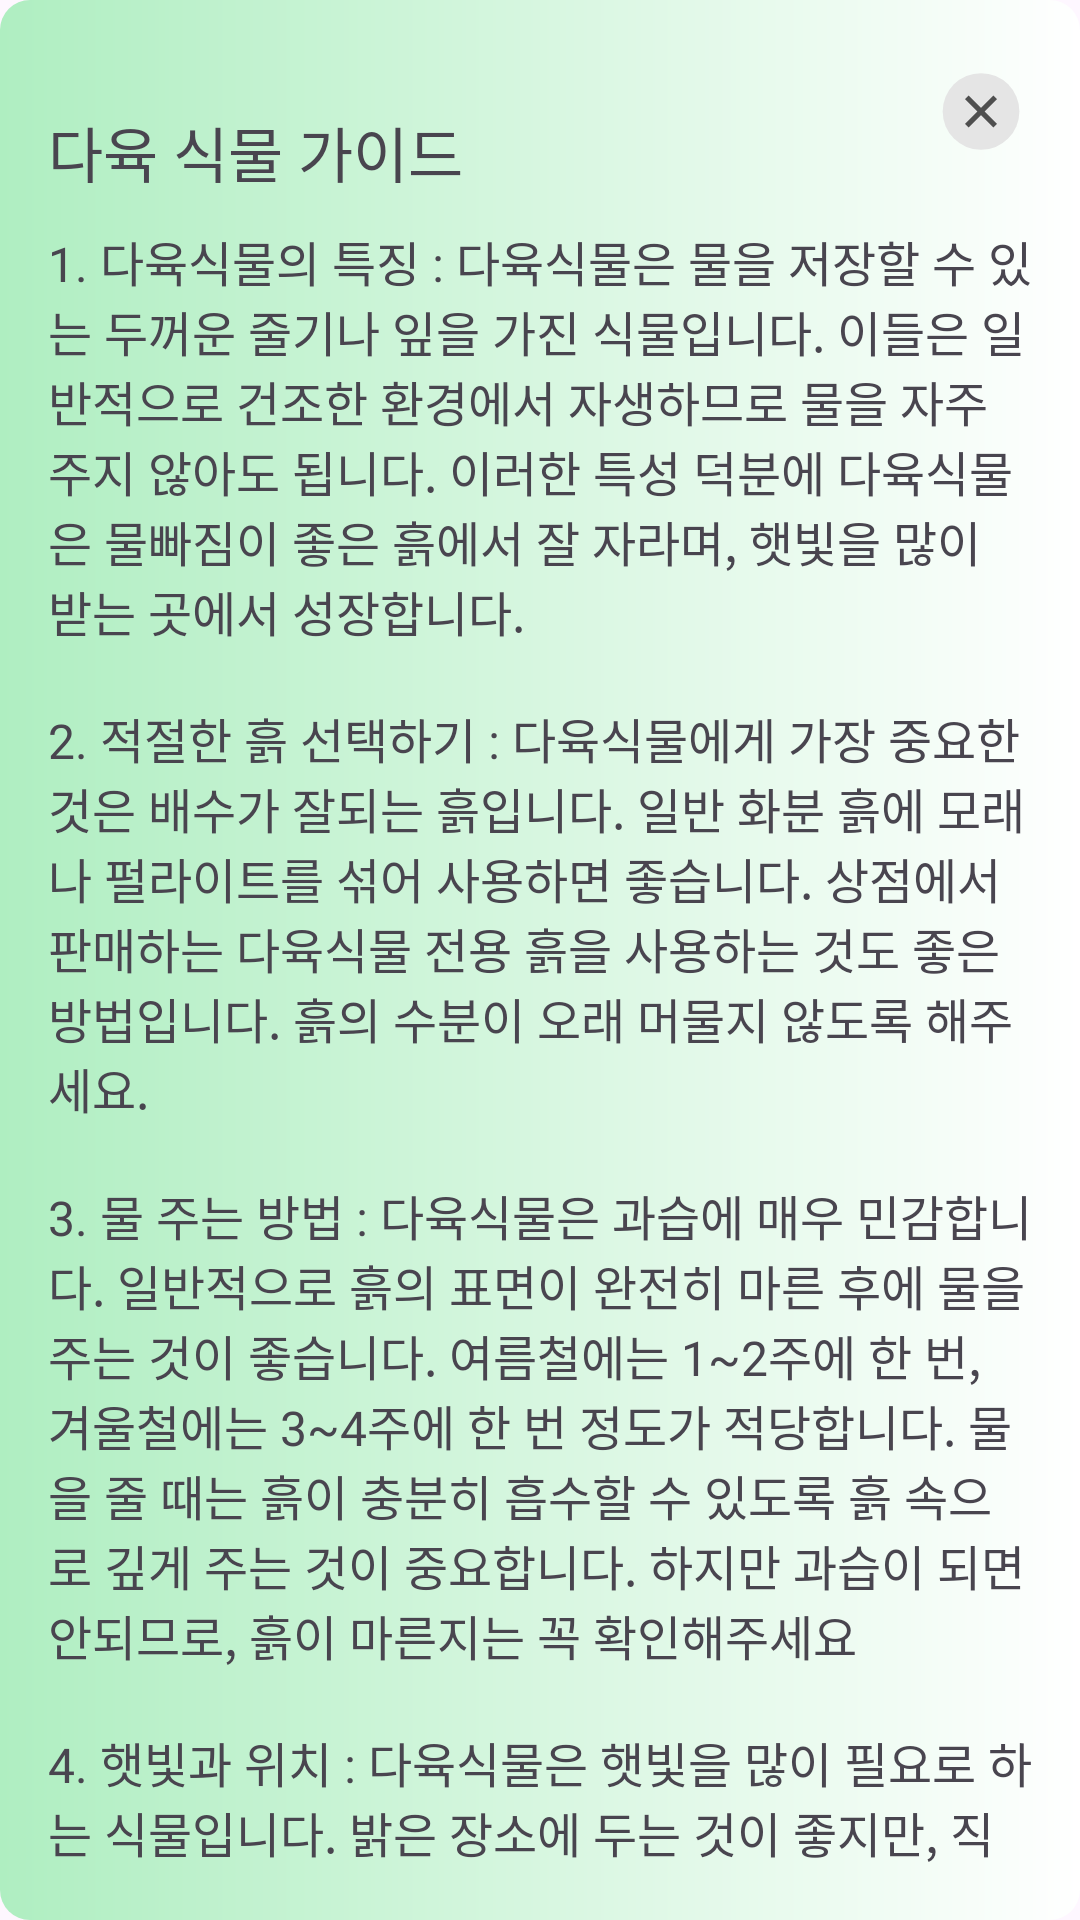

Where to tap for icons on this 1080 x 1920 app screen, as (x,y):
close: (981,111)
